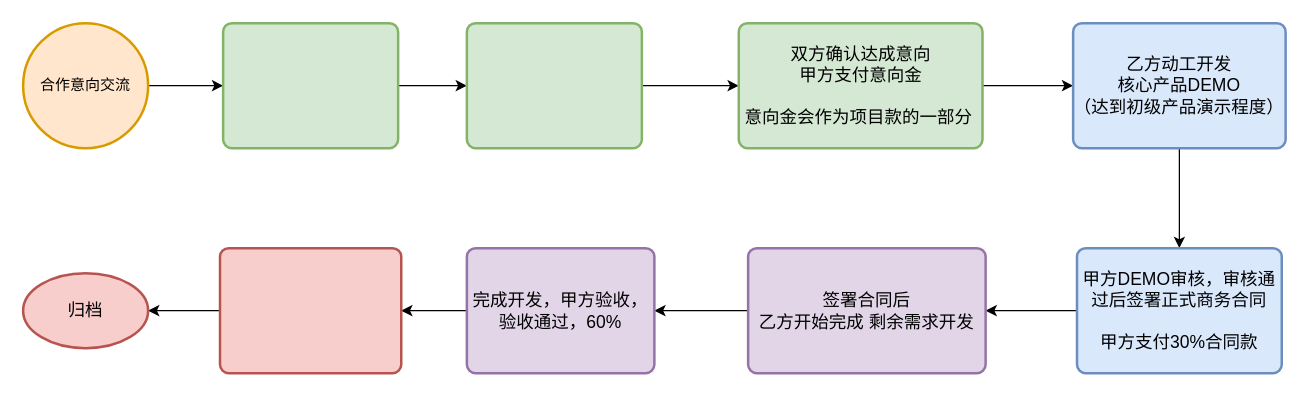
The diagram is 1308 pixels wide and 395 high, and some of its shapes have lost their labels. Here are the shapes that lost their labels. From the top down, the box of each, then its label:
(221, 21, 399, 149): 甲方整理需求 提供产品设计原型
(465, 21, 642, 149): 乙方提供 产品报价 产品开发周期
(218, 246, 402, 374): 半年后支付剩余20% 售后保障金
